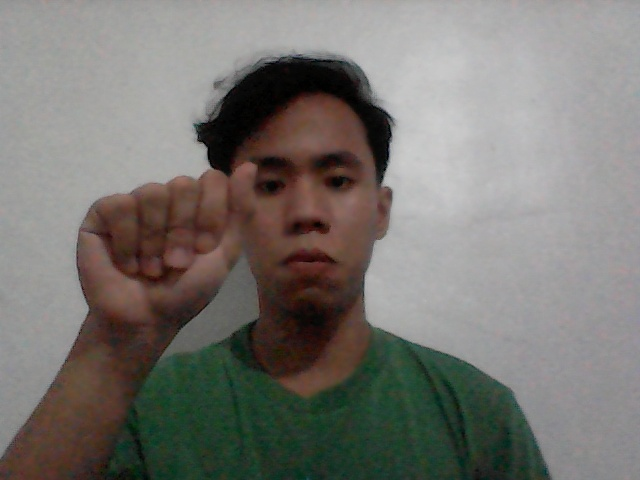A: (34, 159, 284, 348)
